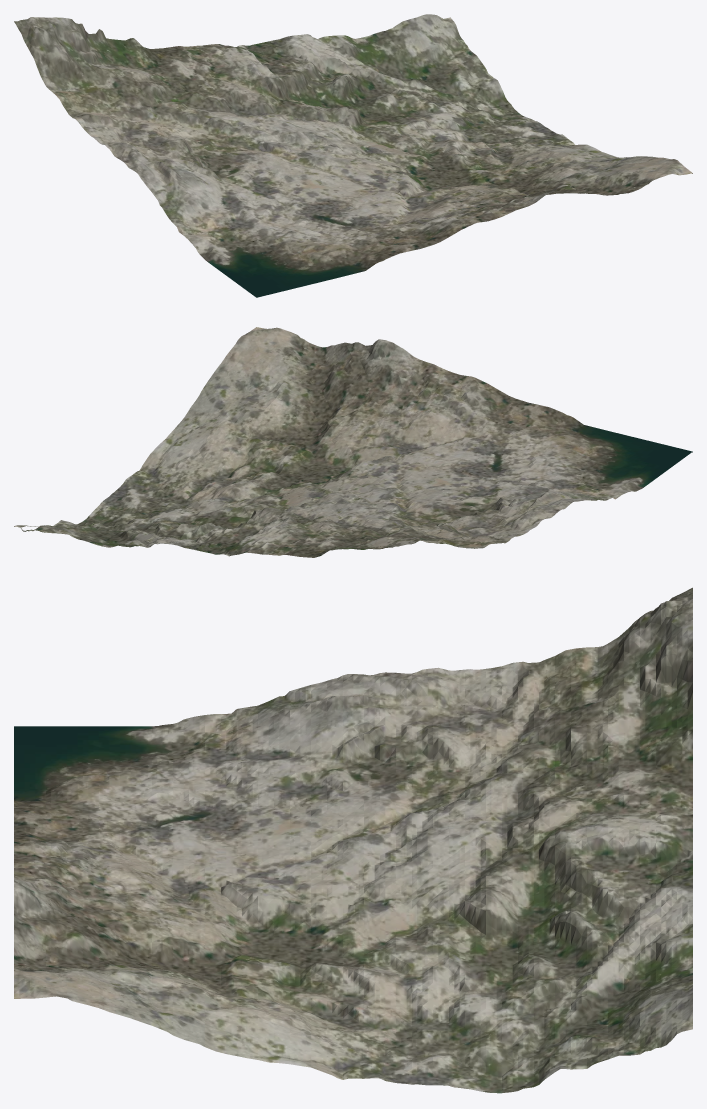
3 views of the same model, one above another, from view 1: azimuth 30°, elevation 25°; view 2: azimuth 150°, elevation 25°; view 3: azimuth 270°, elevation 25° (orthographic). The views are drawn at different scales.
Size of the model in its own units: 500 by 164 by 481.
Materials: 1 (1 with a texture image).
